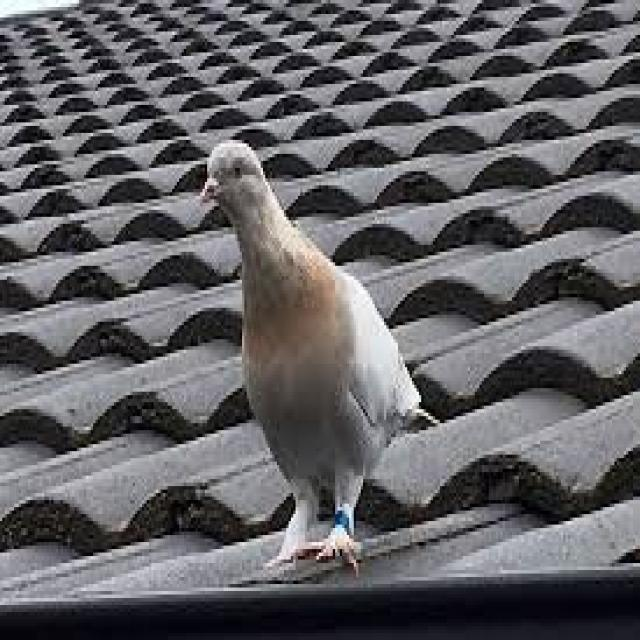Pigeon: (197, 132, 440, 582)
